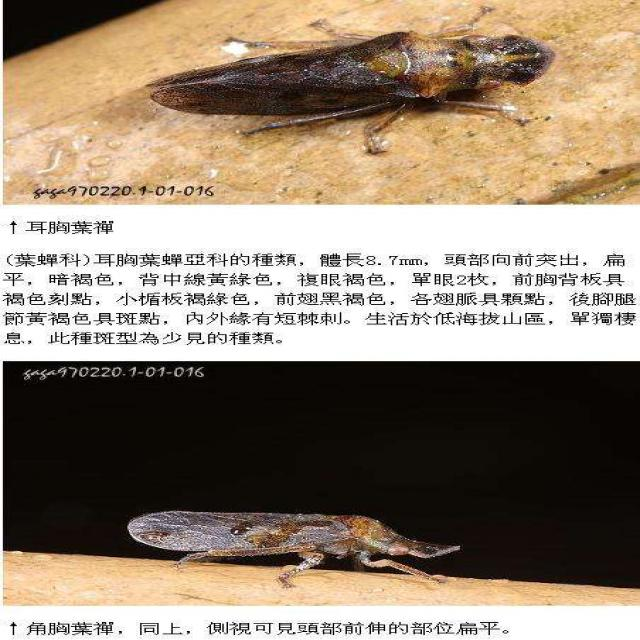Yechan: (153, 8, 561, 152), (118, 500, 472, 585)
